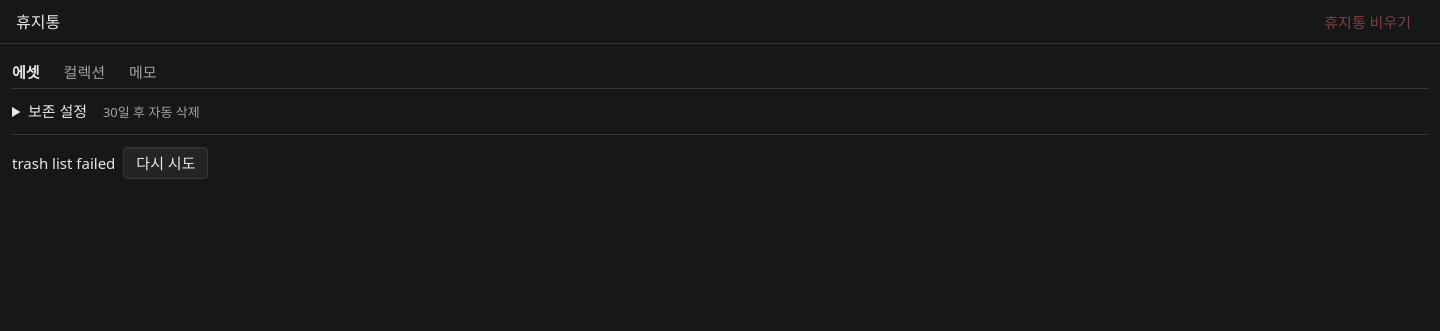
Scenario: shows a retry instead of an empty state when listing trash fails
The image size is (1440, 331).
Click the heading "보존 설정 30일 후 자동 삭제". click: (114, 111)
box: [28,101,200,121]
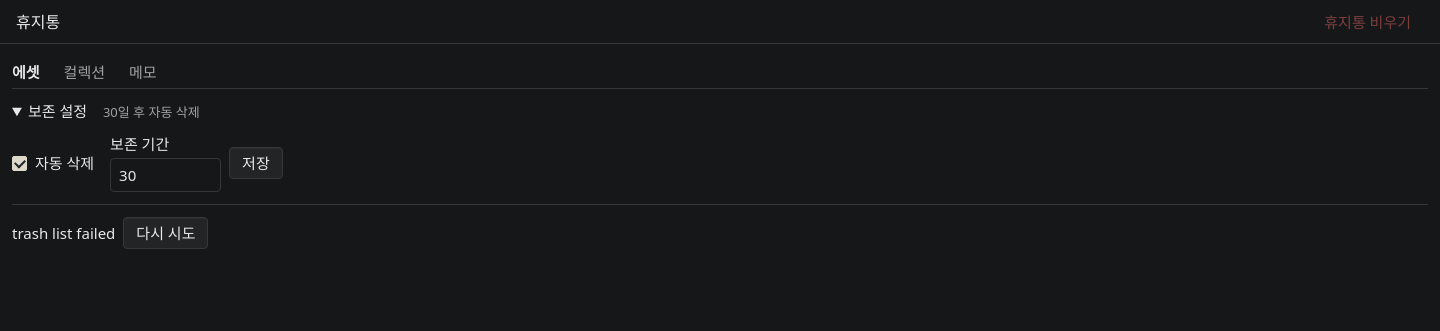
Expected: the text "trash list failed" is shown, [12,223,115,243]
Click the button "다시 시도". click: (166, 233)
box: [123,217,208,249]
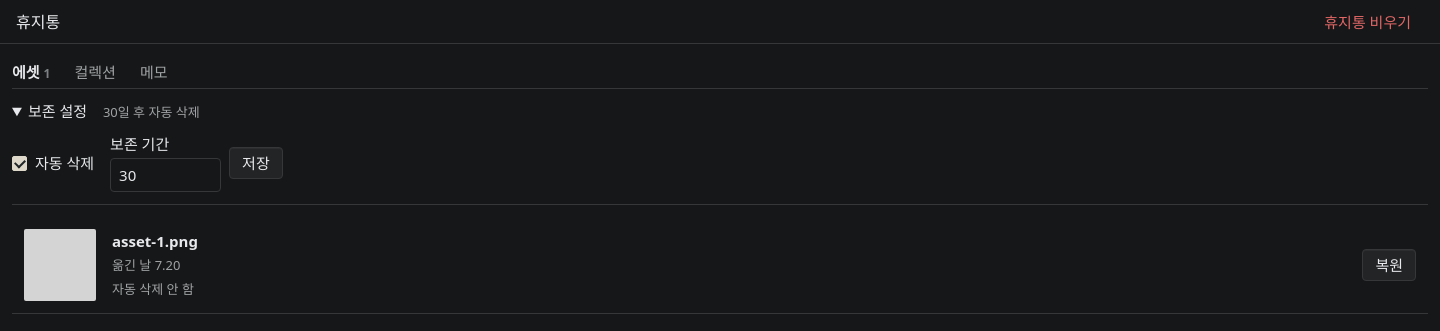
Result: the text "asset-1.png" is shown at [112,231,198,251]
